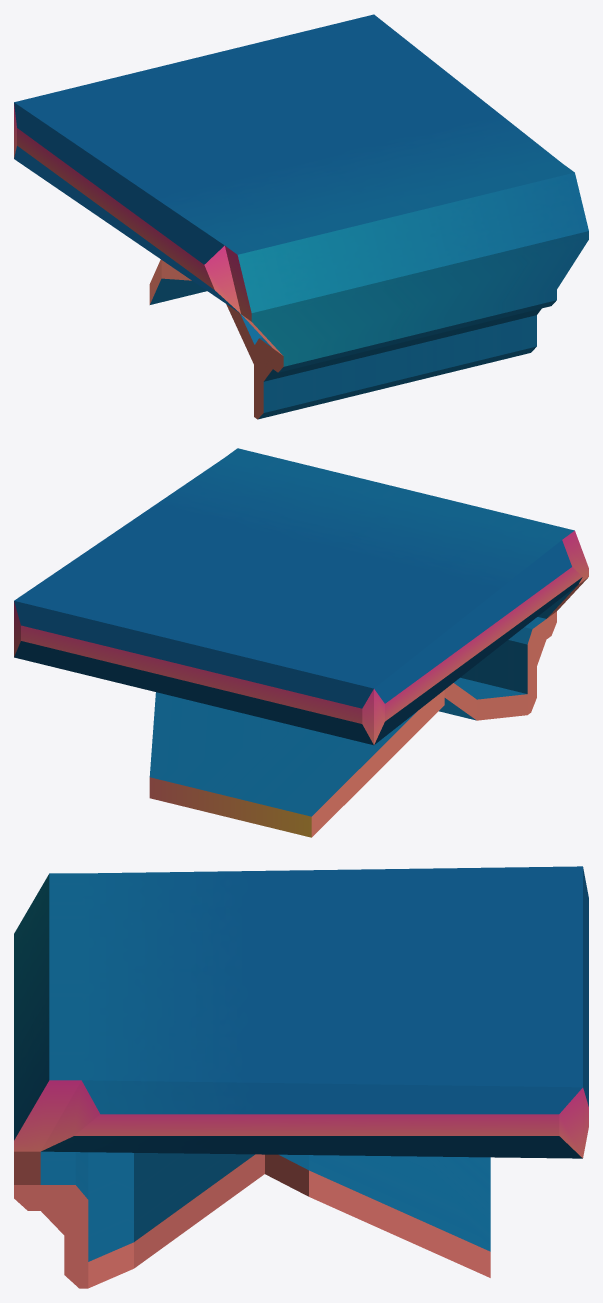
File: SM_Table.fbx
3 views of the same model, one above another, from view 1: azimuth 30°, elevation 25°; view 2: azimuth 150°, elevation 25°; view 3: azimuth 270°, elevation 25° (orthographic). The views are drawn at different scales.
Parts seen in each view (by area): view 1: Table; view 2: Table; view 3: Table.
Part boxes in pixels (<box>): Table: <box>14,14,588,419</box>; Table: <box>14,448,588,837</box>; Table: <box>14,866,588,1288</box>.
Size of the model in its own units: 220 by 204 by 106.
